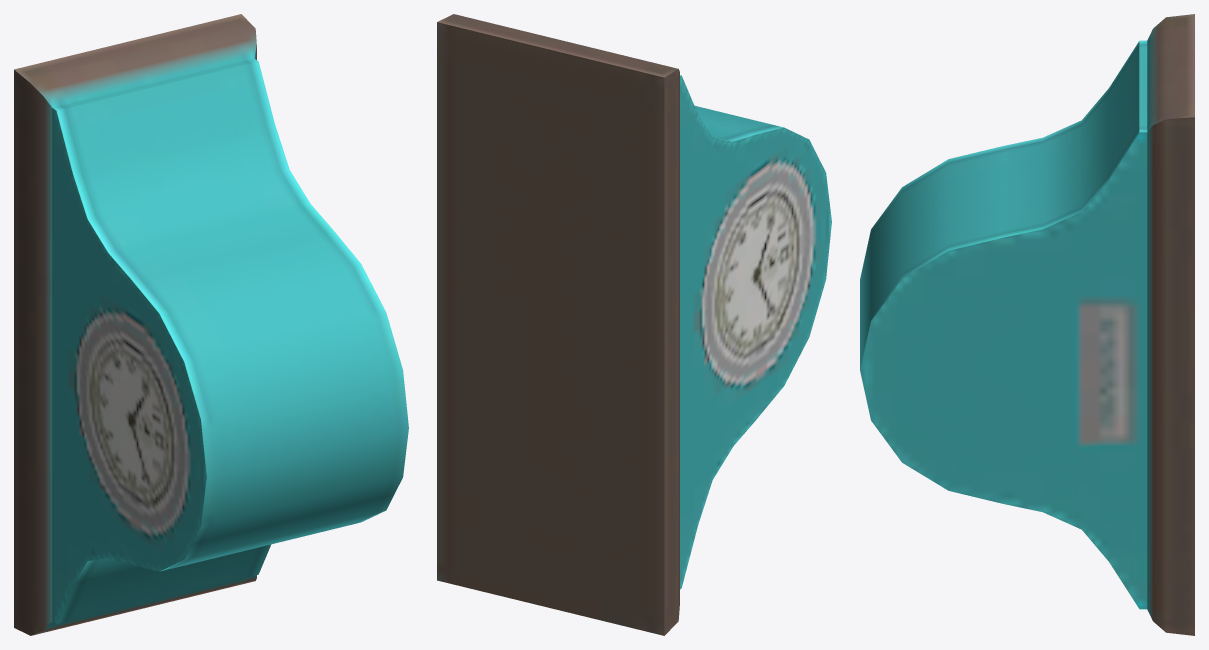
The model's file is nt_2020_clock_table_LOD0.obj.
3 views of the same model, side by side, from view 1: azimuth 30°, elevation 25°; view 2: azimuth 150°, elevation 25°; view 3: azimuth 270°, elevation 25° (orthographic). The views are drawn at different scales.
Parts seen in each view (by area): view 1: mtl_nt_2020_clock_table; view 2: mtl_nt_2020_clock_table; view 3: mtl_nt_2020_clock_table.
Boxes of the visible parts, x1,y1,x2,y2 form: mtl_nt_2020_clock_table: (14,14,408,635); mtl_nt_2020_clock_table: (437,14,831,635); mtl_nt_2020_clock_table: (860,14,1194,635).
Size of the model in its own units: 17.13 by 40.18 by 23.5.
